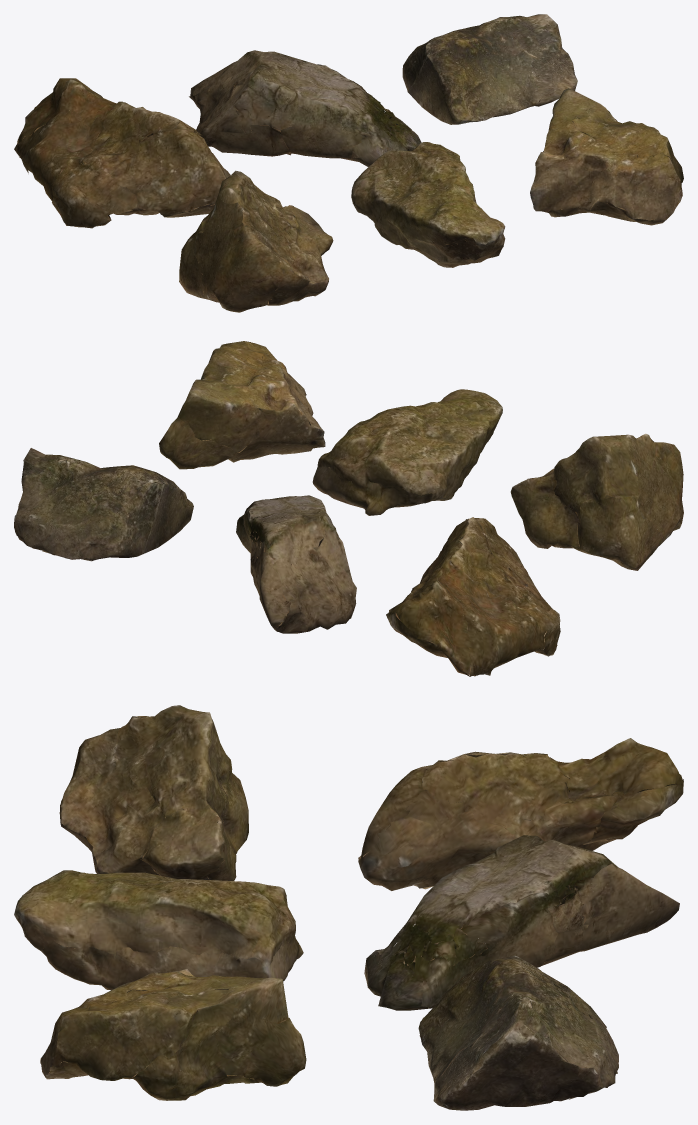
Rendered from moss-rocks.glb.
3 views of the same model, one above another, from view 1: azimuth 30°, elevation 25°; view 2: azimuth 150°, elevation 25°; view 3: azimuth 270°, elevation 25° (orthographic). The views are drawn at different scales.
Parts seen in each view (by area): view 1: rock_moss_set_01_rock01, rock_moss_set_01_rock02, rock_moss_set_01_rock06, rock_moss_set_01_rock04, rock_moss_set_01_rock03, rock_moss_set_01_rock05; view 2: rock_moss_set_01_rock04, rock_moss_set_01_rock01, rock_moss_set_01_rock05, rock_moss_set_01_rock03, rock_moss_set_01_rock06, rock_moss_set_01_rock02; view 3: rock_moss_set_01_rock01, rock_moss_set_01_rock02, rock_moss_set_01_rock05, rock_moss_set_01_rock04, rock_moss_set_01_rock06, rock_moss_set_01_rock03.
Boxes of the visible parts, x1=… form: rock_moss_set_01_rock01: x1=14, y1=78, x2=230, y2=228; rock_moss_set_01_rock02: x1=189, y1=50, x2=421, y2=166; rock_moss_set_01_rock06: x1=530, y1=88, x2=683, y2=225; rock_moss_set_01_rock04: x1=179, y1=170, x2=333, y2=312; rock_moss_set_01_rock03: x1=402, y1=14, x2=577, y2=124; rock_moss_set_01_rock05: x1=351, y1=142, x2=505, y2=267; rock_moss_set_01_rock04: x1=510, y1=433, x2=683, y2=570; rock_moss_set_01_rock01: x1=386, y1=517, x2=560, y2=676; rock_moss_set_01_rock05: x1=312, y1=389, x2=502, y2=515; rock_moss_set_01_rock03: x1=14, y1=448, x2=193, y2=561; rock_moss_set_01_rock06: x1=159, y1=341, x2=325, y2=469; rock_moss_set_01_rock02: x1=236, y1=495, x2=356, y2=633; rock_moss_set_01_rock01: x1=358, y1=738, x2=683, y2=890; rock_moss_set_01_rock02: x1=364, y1=835, x2=679, y2=1010; rock_moss_set_01_rock05: x1=14, y1=870, x2=303, y2=990; rock_moss_set_01_rock04: x1=59, y1=705, x2=248, y2=880; rock_moss_set_01_rock06: x1=40, y1=969, x2=306, y2=1100; rock_moss_set_01_rock03: x1=418, y1=955, x2=618, y2=1110.
Size of the model in its own units: 8 by 1.77 by 6.95.
Materials: 1 (1 with a texture image).
